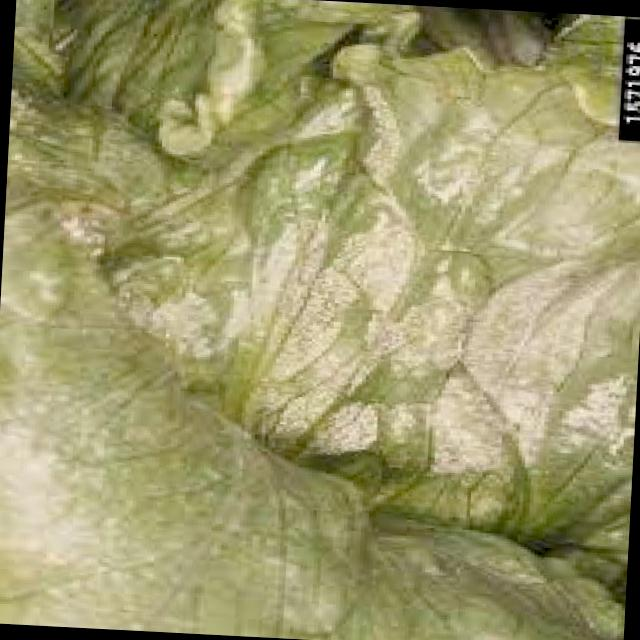Downy_mildew: (250, 88, 604, 471)
